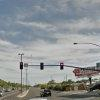Traffic light: (17, 50, 73, 79)
